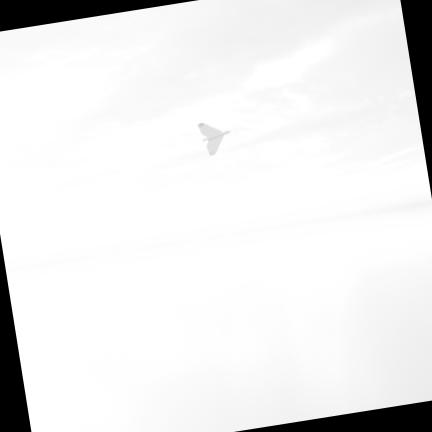Shahed: (199, 123, 230, 155)
